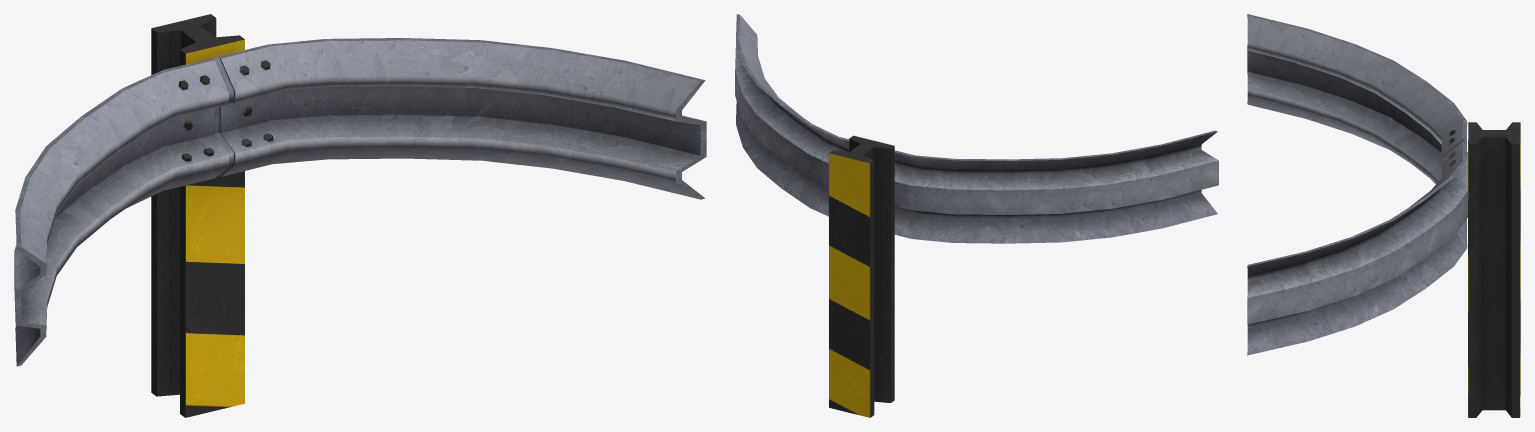
File: Gen_hywy_barricade_05.fbx
3 views of the same model, side by side, from view 1: azimuth 30°, elevation 25°; view 2: azimuth 150°, elevation 25°; view 3: azimuth 270°, elevation 25° (orthographic). The views are drawn at different scales.
Parts seen in each view (by area): view 1: Gen_hywy_barricade_05_LOD0; view 2: Gen_hywy_barricade_05_LOD0; view 3: Gen_hywy_barricade_05_LOD0.
Boxes of the visible parts, <box> form: Gen_hywy_barricade_05_LOD0: <box>14,14,706,417</box>; Gen_hywy_barricade_05_LOD0: <box>735,14,1218,417</box>; Gen_hywy_barricade_05_LOD0: <box>1247,14,1520,417</box>.
Size of what is drawn, in the model's own units: 2.18 by 1.1 by 0.9939.
Materials: 1 (1 with a texture image).
